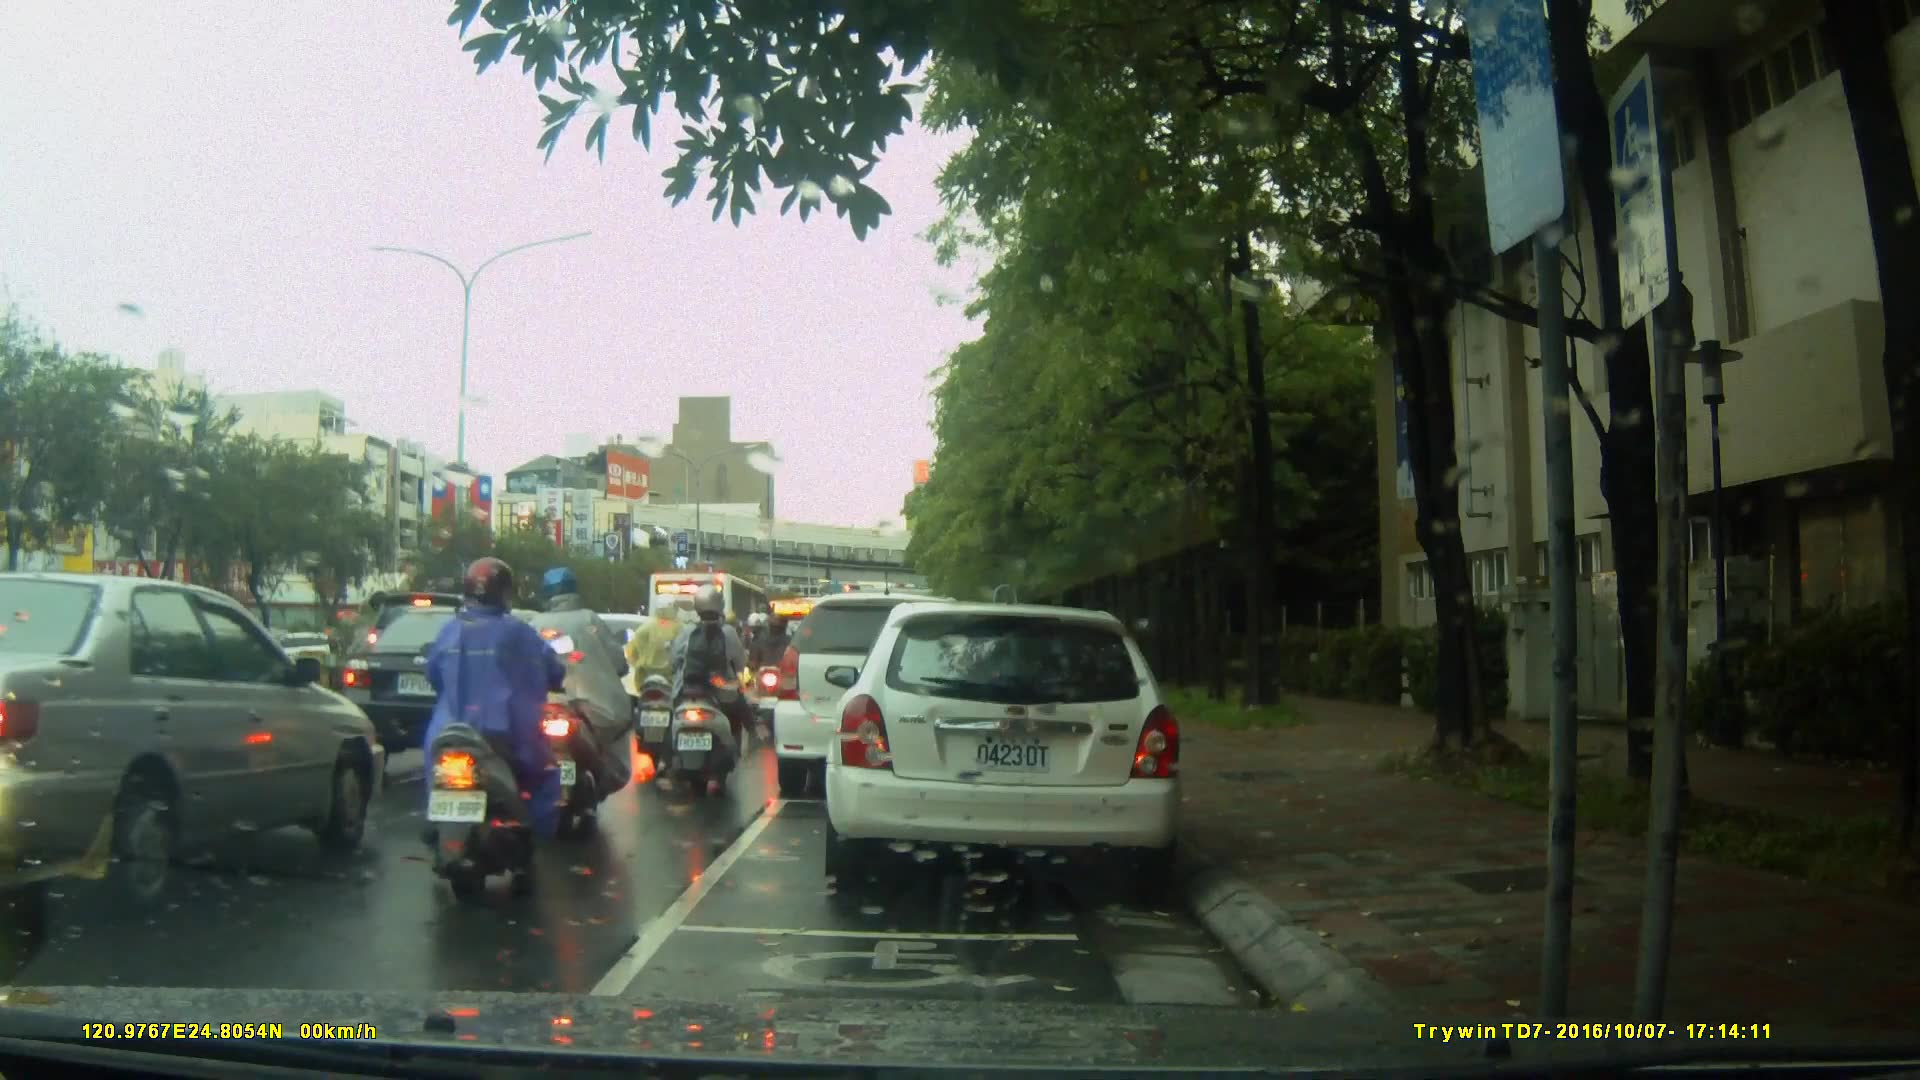rider: (420, 557, 573, 915), (512, 562, 626, 835), (660, 590, 742, 788), (622, 601, 703, 762), (744, 612, 793, 736)
vehicle: (1, 572, 392, 920), (831, 592, 1196, 897), (768, 592, 999, 801), (340, 606, 565, 761), (644, 570, 778, 702), (531, 612, 667, 722)
